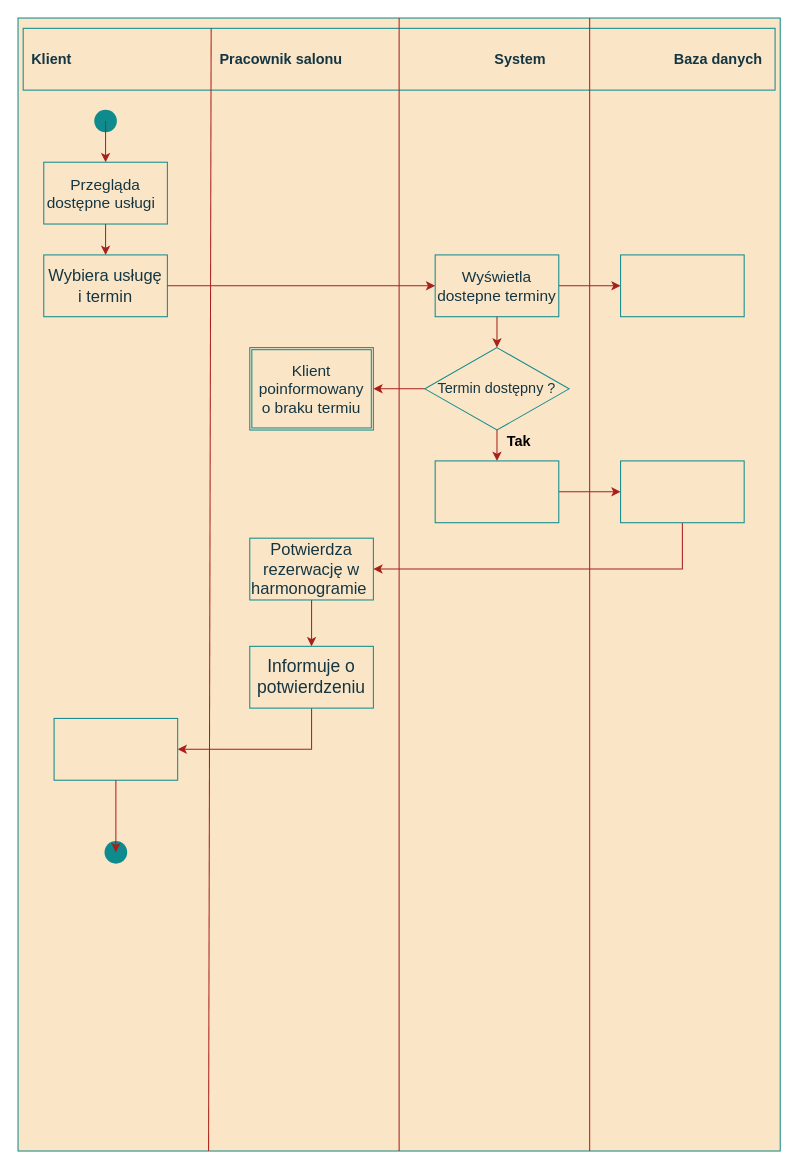
This 798x1170 diagram has some shape labels left out. The centre of each missing label's shape, as x and y in pixels:
"Otrzymuje potwierdzenie rezerwacji" goes at pixel 115 748.
"Pobiera usługi i terminy" goes at pixel 682 285.
"Rezerwuje wizytę" goes at pixel 496 491.
"Zapisuje rezerwację" goes at pixel 682 491.
